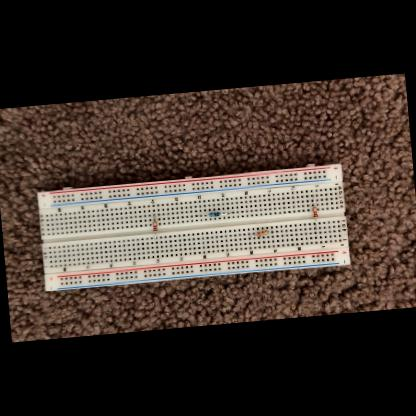breadboard: (35, 163, 350, 292)
resistor: (312, 206, 318, 218), (152, 221, 158, 232), (257, 230, 268, 236), (208, 212, 219, 217)
wire: (313, 219, 317, 234), (248, 235, 256, 240), (220, 212, 232, 215), (152, 233, 156, 239), (196, 214, 208, 216), (312, 196, 314, 206), (152, 215, 155, 221), (268, 231, 272, 232)
